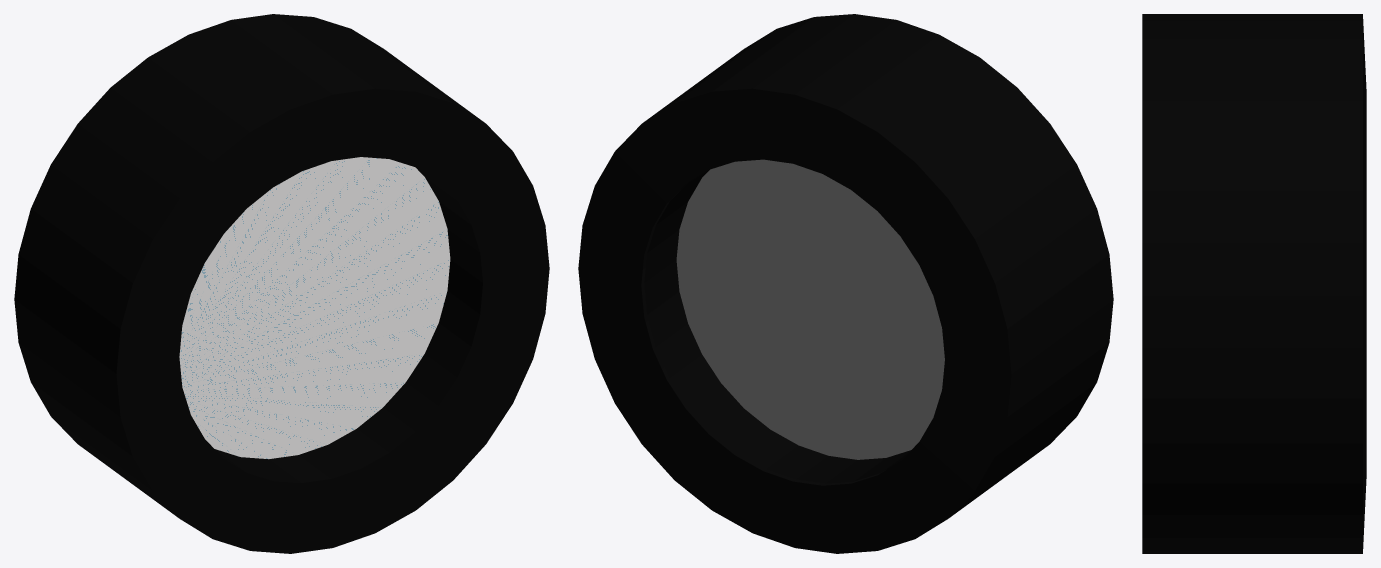
3 renders of one model, left to right at view 1: azimuth 30°, elevation 25°; view 2: azimuth 150°, elevation 25°; view 3: azimuth 270°, elevation 25°, orthographic. The views are drawn at different scales.
Visible parts, largest first — view 1: wheel.001; view 2: wheel.001; view 3: wheel.001.
Part boxes in pixels (x1,y1,x2,y2): wheel.001: (14, 14, 549, 553); wheel.001: (578, 14, 1113, 553); wheel.001: (1142, 14, 1366, 553).
Bounding box in the file's own units: 5.82 × 5.82 × 2.42.
